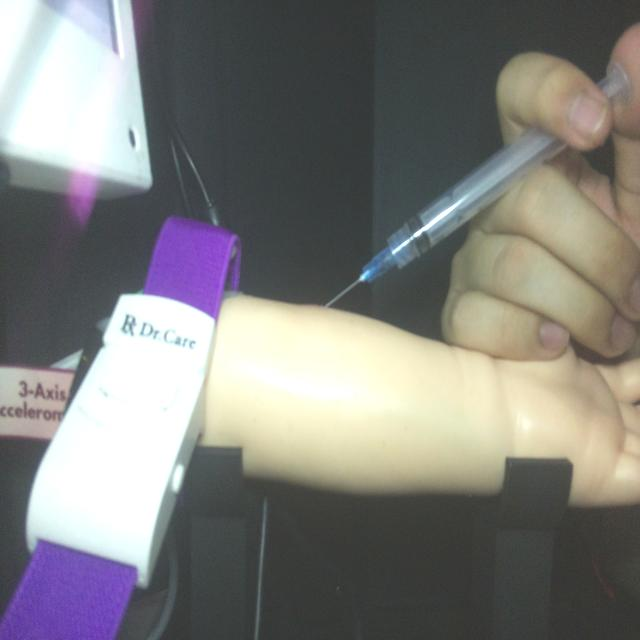29 degrees: (321, 58, 631, 311)
